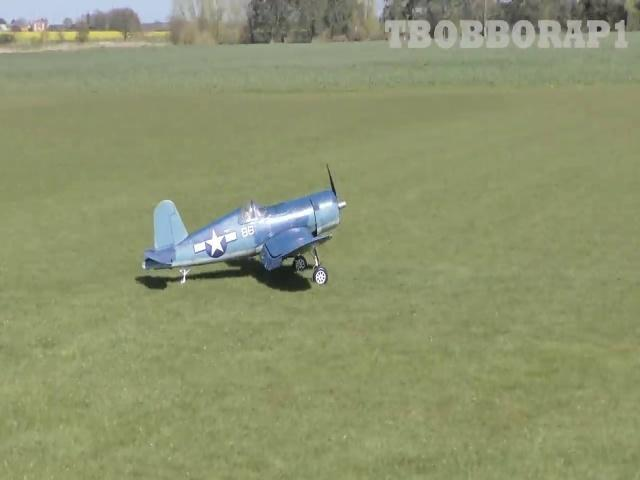Airplane: (141, 164, 347, 285)
